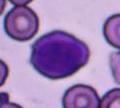M: (30, 30, 89, 79)
